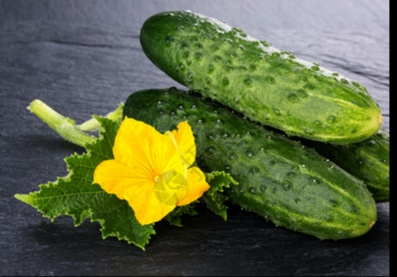cucumber: (140, 8, 381, 127)
cucumber_plant: (16, 103, 208, 243)
